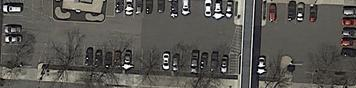parkingspot: (44, 42, 231, 75), (114, 0, 236, 20), (0, 5, 24, 67), (266, 2, 320, 26), (340, 5, 356, 59), (257, 54, 283, 78), (22, 0, 53, 18)
